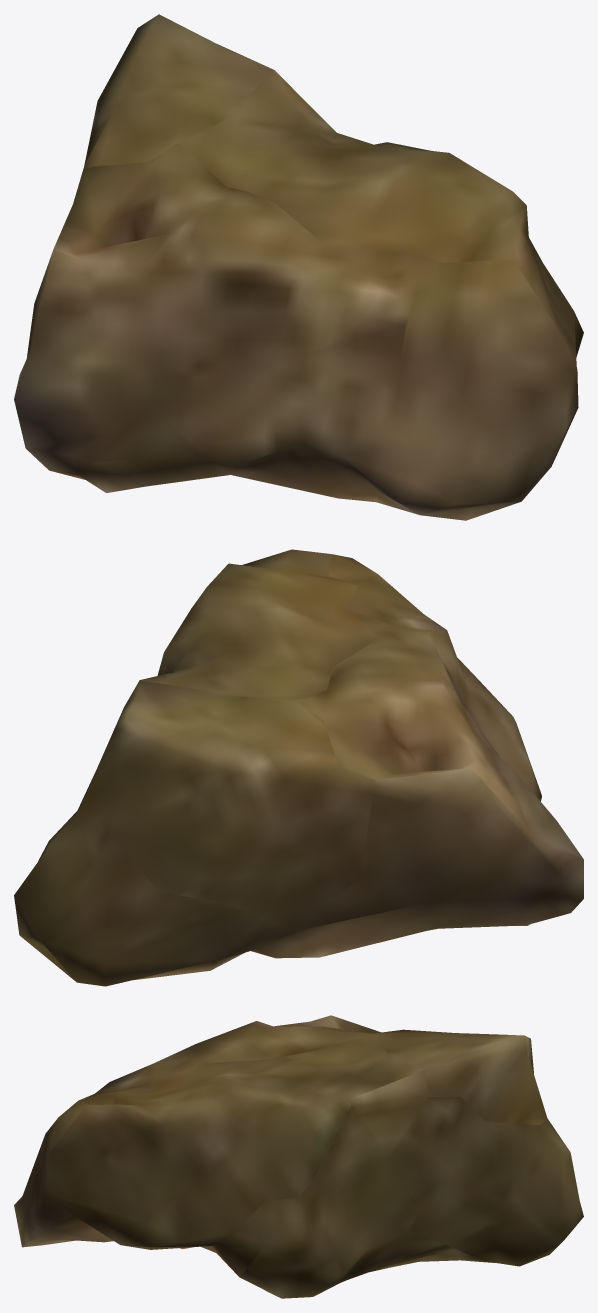
The picture shows the model from 3 angles, top to bottom: view 1: azimuth 30°, elevation 25°; view 2: azimuth 150°, elevation 25°; view 3: azimuth 270°, elevation 25°; orthographic projection. The views are drawn at different scales.
Visible parts, largest first — view 1: rock_moss_set_01__f_lod2; view 2: rock_moss_set_01__f_lod2; view 3: rock_moss_set_01__f_lod2.
Boxes of the visible parts, <box> form: rock_moss_set_01__f_lod2: <box>14,14,583,520</box>; rock_moss_set_01__f_lod2: <box>14,549,583,986</box>; rock_moss_set_01__f_lod2: <box>14,1015,583,1298</box>.
Size of the model in its own units: 2.12 by 1.25 by 2.74.
Materials: 1 (1 with a texture image).
